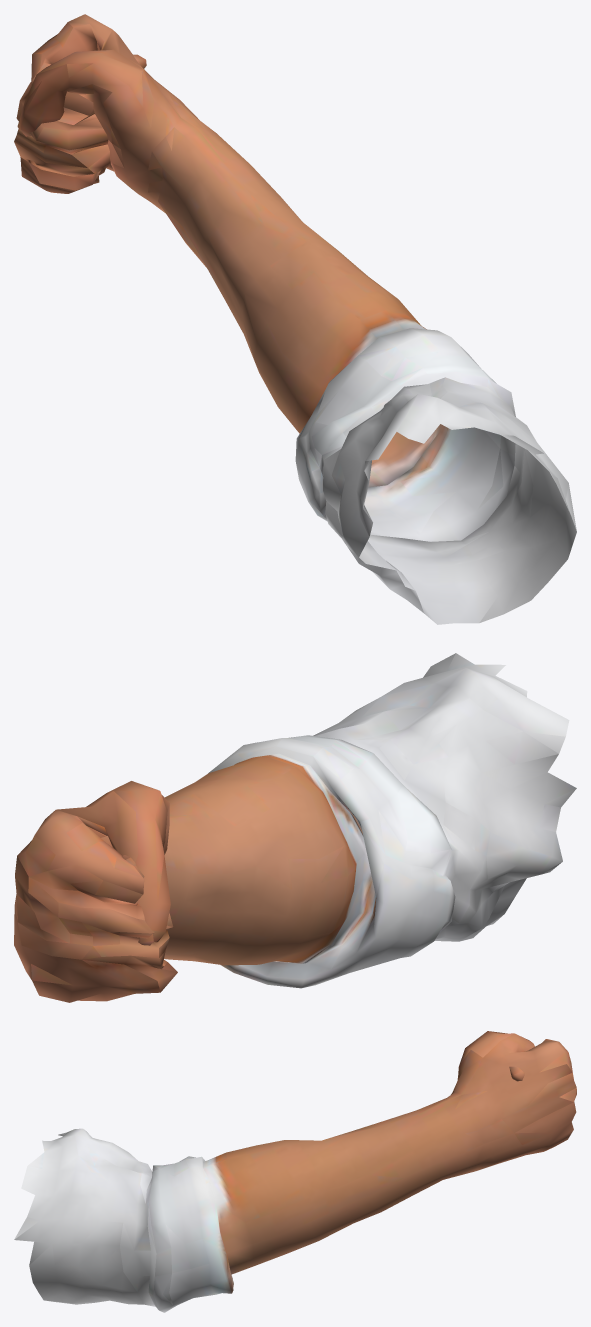
Rendered from fp_fist.glb.
The picture shows the model from 3 angles, top to bottom: view 1: azimuth 30°, elevation 25°; view 2: azimuth 150°, elevation 25°; view 3: azimuth 270°, elevation 25°; orthographic projection. The views are drawn at different scales.
Parts seen in each view (by area): view 1: fp_fist; view 2: fp_fist; view 3: fp_fist.
Boxes of the visible parts, left/top/right/bottom form: fp_fist: left=14, top=14, right=576, bottom=624; fp_fist: left=14, top=653, right=576, bottom=1002; fp_fist: left=14, top=1031, right=576, bottom=1312.
Size of the model in its own units: 0.1401 by 0.2115 by 0.4393.
1 material, 1 textured.
